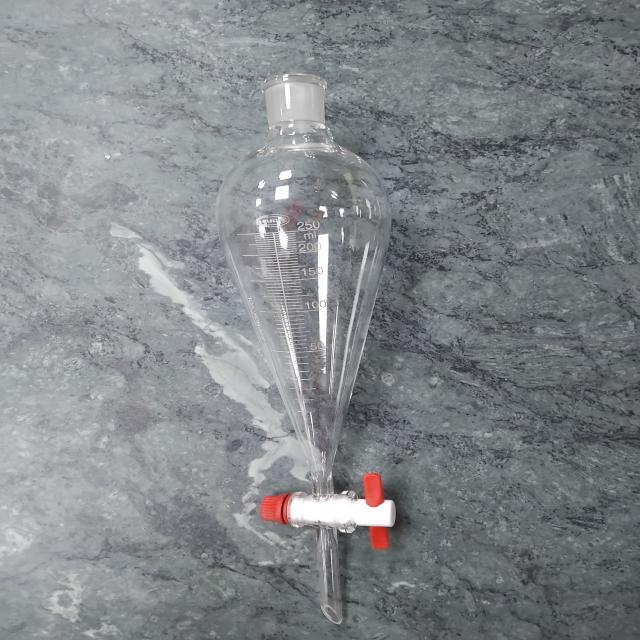Separating_Funnel: (198, 38, 428, 640)
